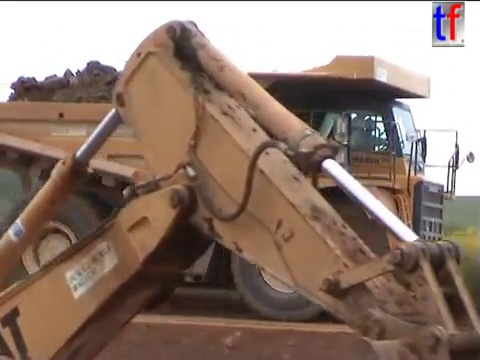excavator: (1, 16, 480, 360)
truck: (1, 50, 476, 324)
